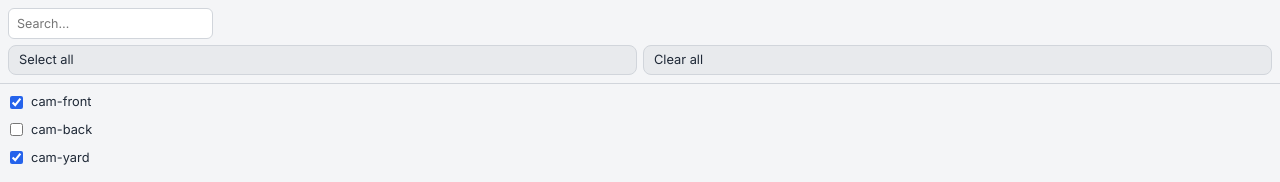
Test: CameraChecklist › shows the empty state when nothing matches
Type "zzz" into the search field with test id "cc-search" at (110, 24), box [8,8,213,39]
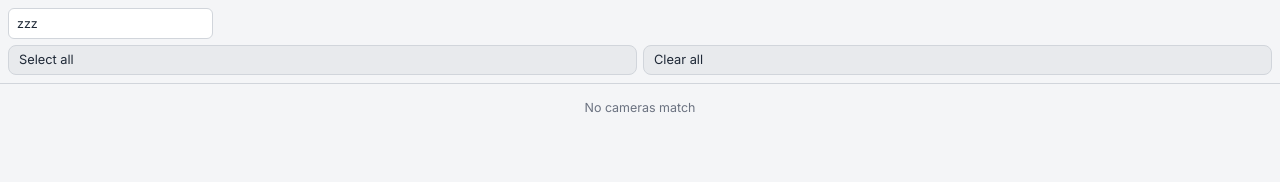
Expected: the text "No cameras match" is shown, [584,100,696,115]
